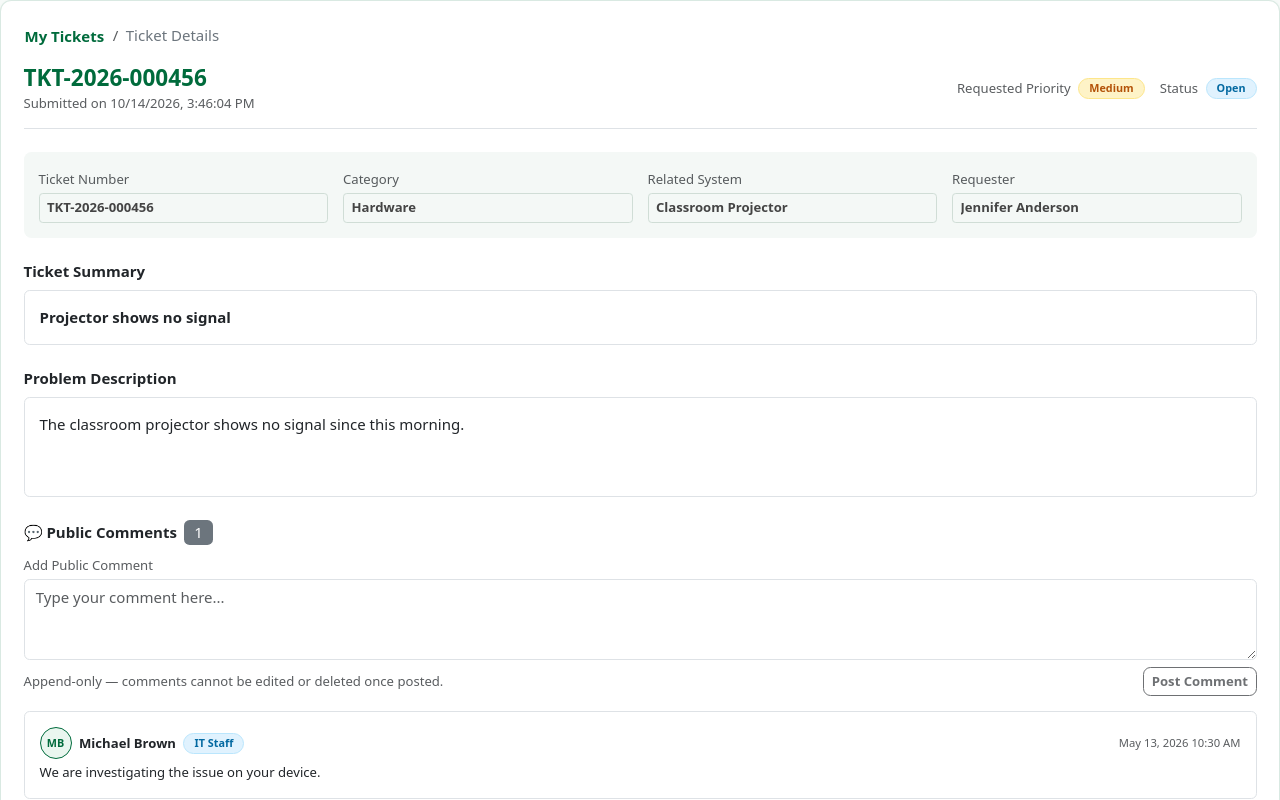
Test: TicketDetailView — Requester view (read-only badges + Problem Appears Resolved) › shows Public Comments for the Requester — and never any internal notes (Issue 8)
Expected: the element with test id "public-comment-item" shows "We are investigating the issue on your device.", 40,763 -> 320,781
Expected: the text with test id "role-badge" reads "IT Staff", 194,735 -> 233,750
Type "Thank you for the update!" into the text box with test id "requester-comment-input".
click(640, 619); type("Thank you for the update!")  # box 24,579 -> 1256,660
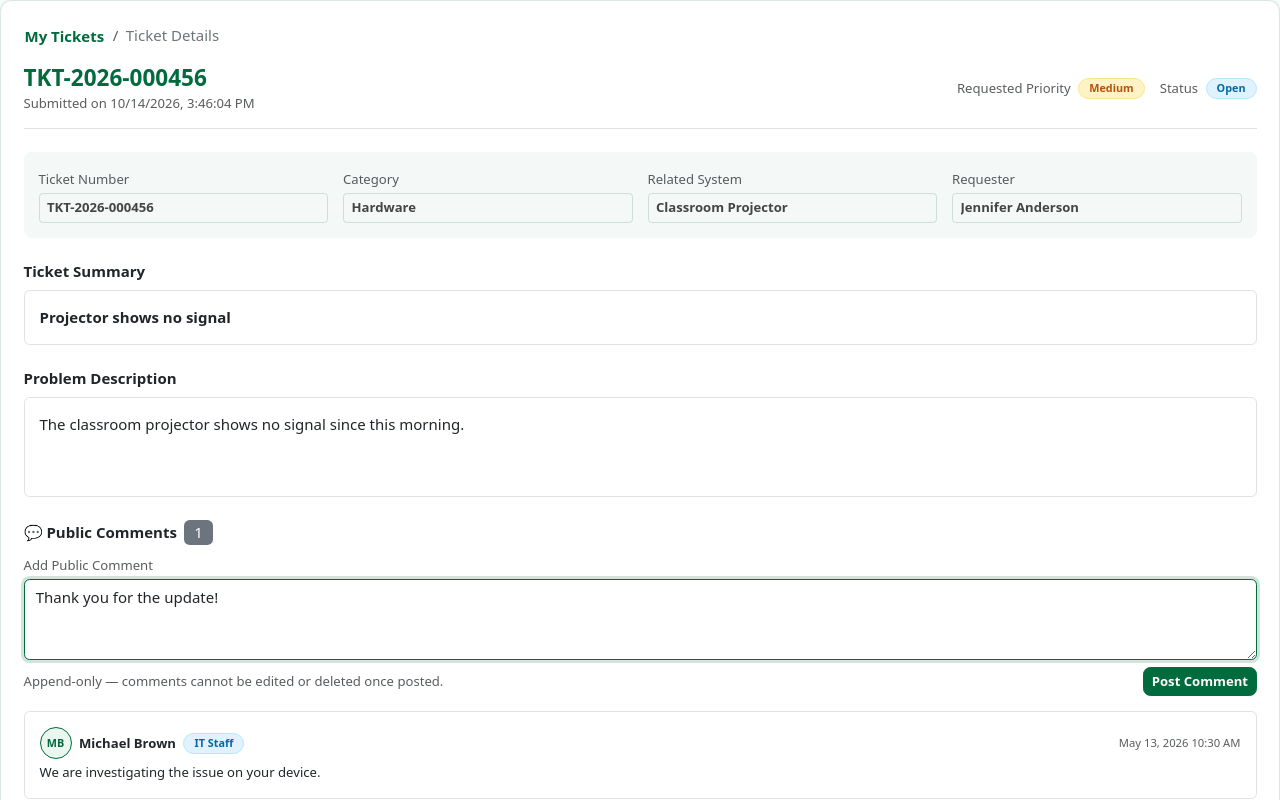
Click the button with test id "post-comment".
click(1200, 682)  # box 1143,667 -> 1256,696
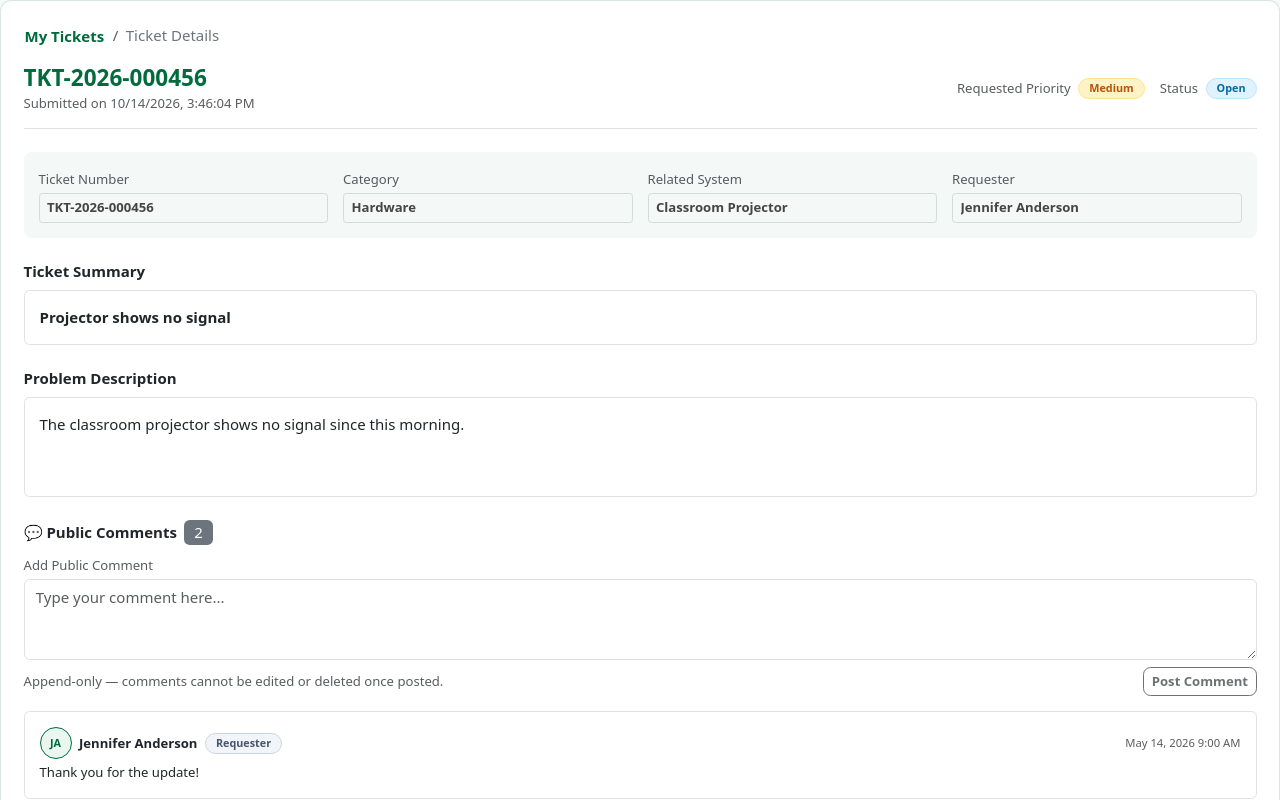
Now the number of elements with test id "public-comment-item" is 2
